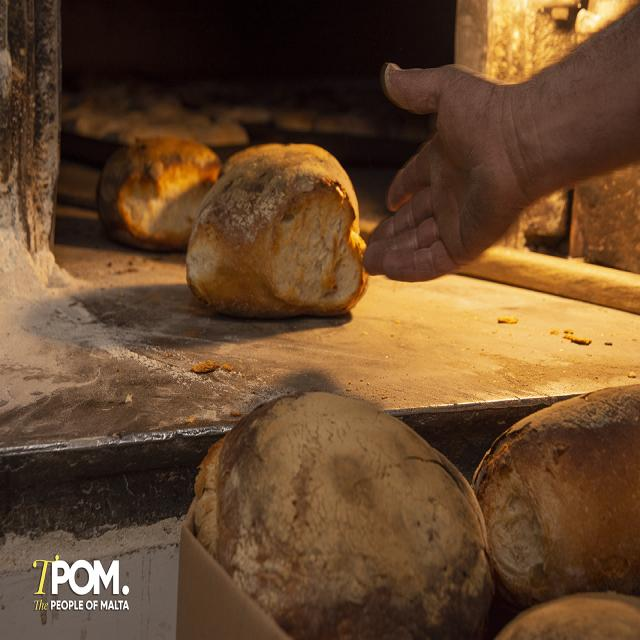Maltese-Bread: (187, 392, 494, 639), (472, 385, 640, 606), (186, 144, 368, 318)
